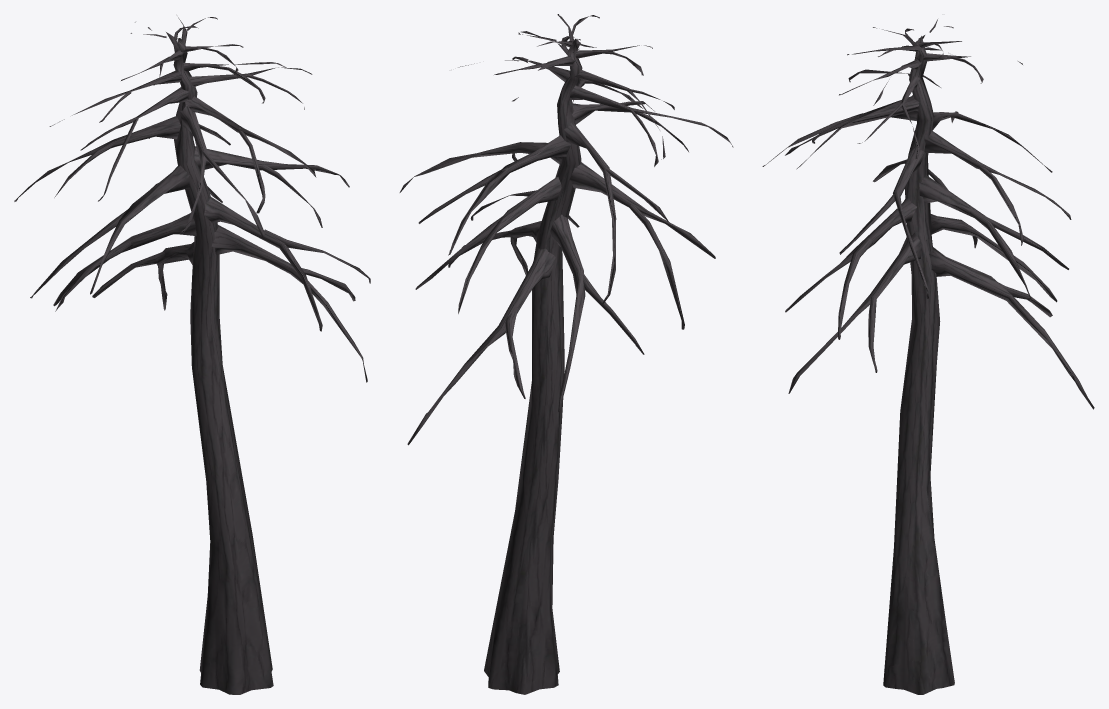
File: nkdead3.lod1.glb
The picture shows the model from 3 angles, left to right: view 1: azimuth 30°, elevation 25°; view 2: azimuth 150°, elevation 25°; view 3: azimuth 270°, elevation 25°; orthographic projection. The views are drawn at different scales.
Parts seen in each view (by area): view 1: DeadTree_3; view 2: DeadTree_3; view 3: DeadTree_3.
Boxes of the visible parts, box(x1,y1,x2,y2) form: DeadTree_3: box(14, 17, 370, 694); DeadTree_3: box(399, 14, 733, 694); DeadTree_3: box(762, 19, 1094, 694).
Bounding box in the file's own units: 6.38 × 13.28 × 6.43.
1 material, 1 textured.
